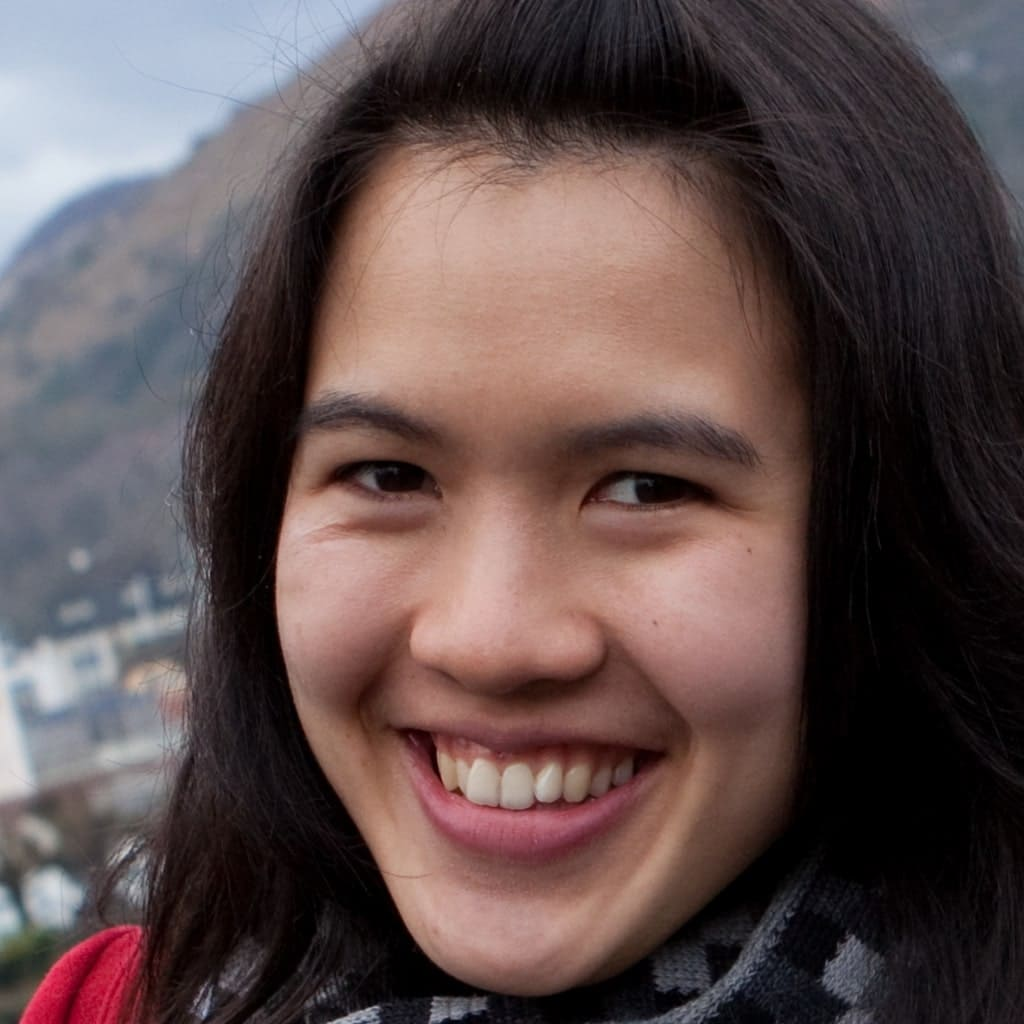without_mask: (284, 191, 781, 947)
